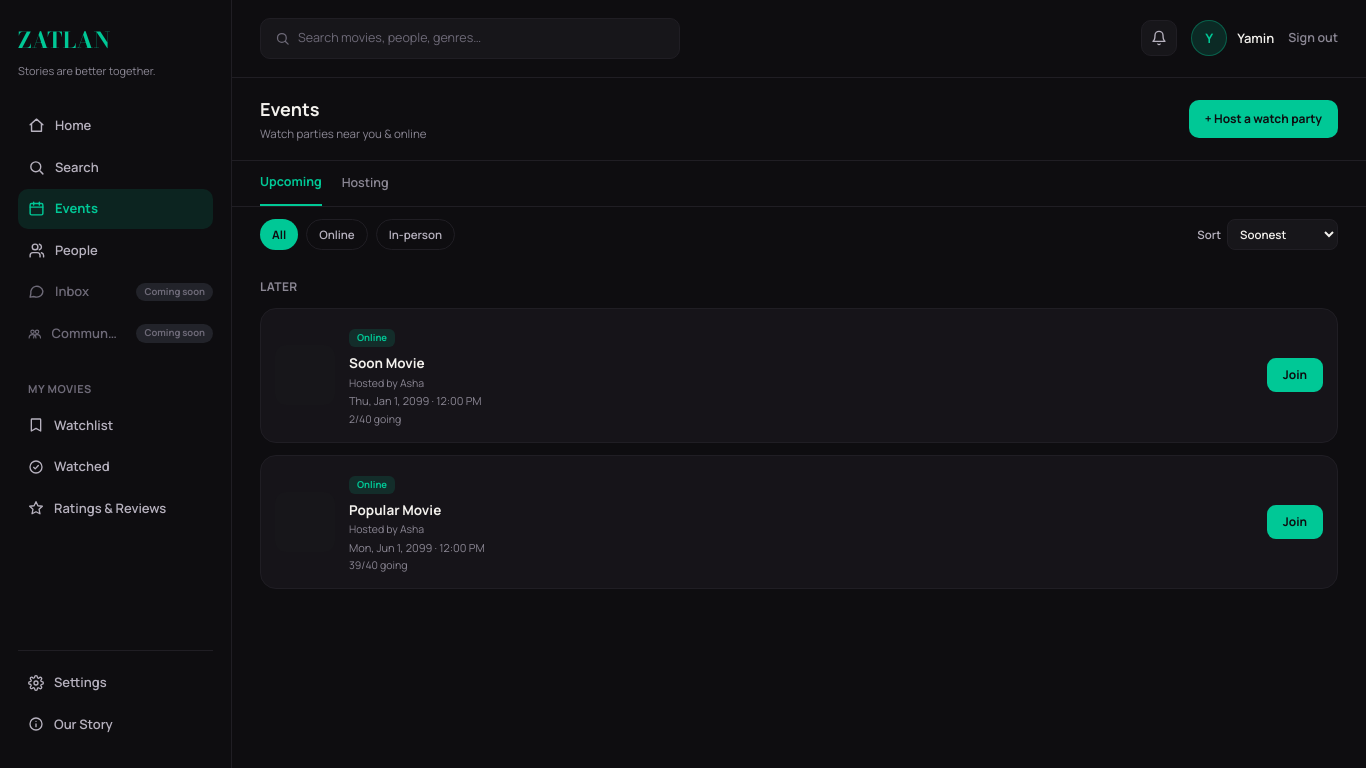
EventsPage › sort control › reorders to most popular first when that sort is chosen
The image size is (1366, 768).
Expected: the text "Soon Movie" is shown, [349, 354, 425, 372]
Select "Most popular" in the dropdown labelled "Sort" at point(1282, 234), box [1227, 219, 1338, 250]
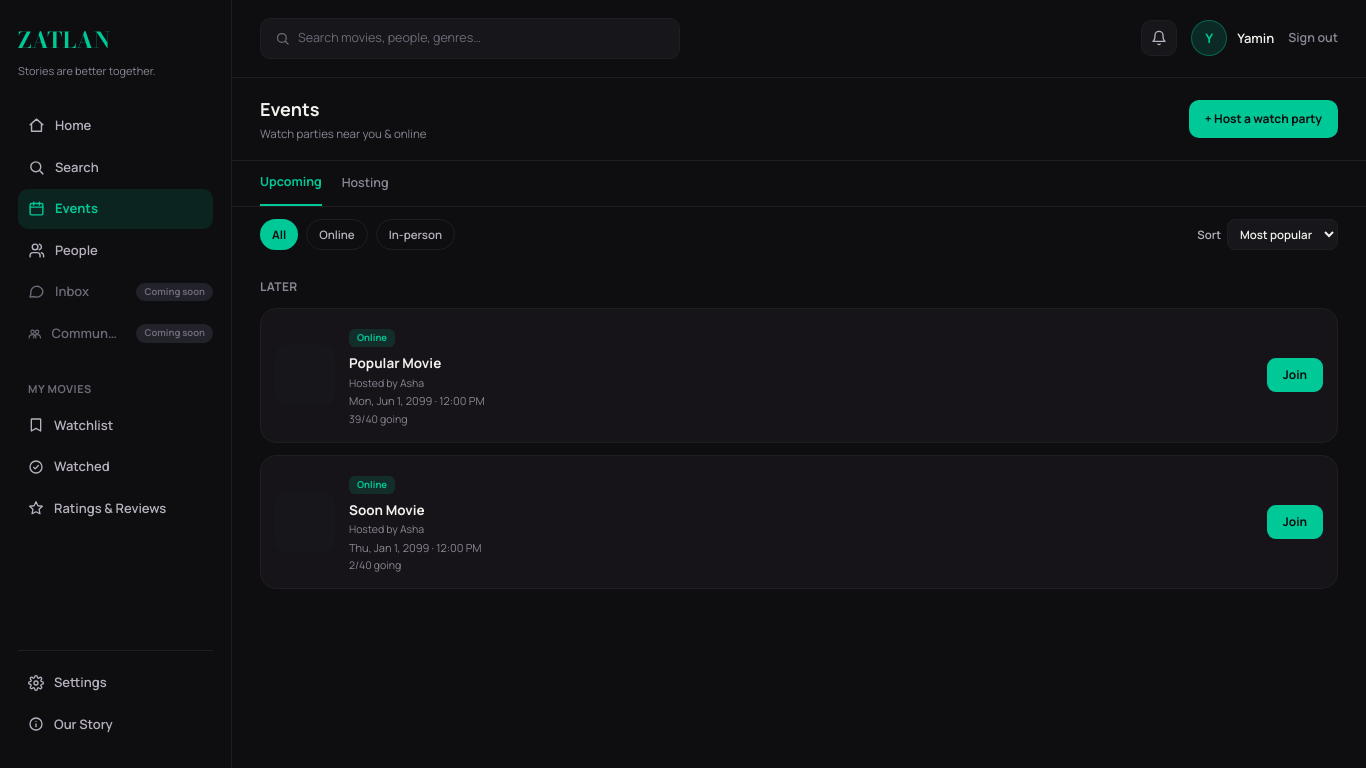
Expected: the elements "movie" read "Popular Movie", "Soon Movie", in this order, [349, 354, 441, 372]; [349, 501, 425, 519]
